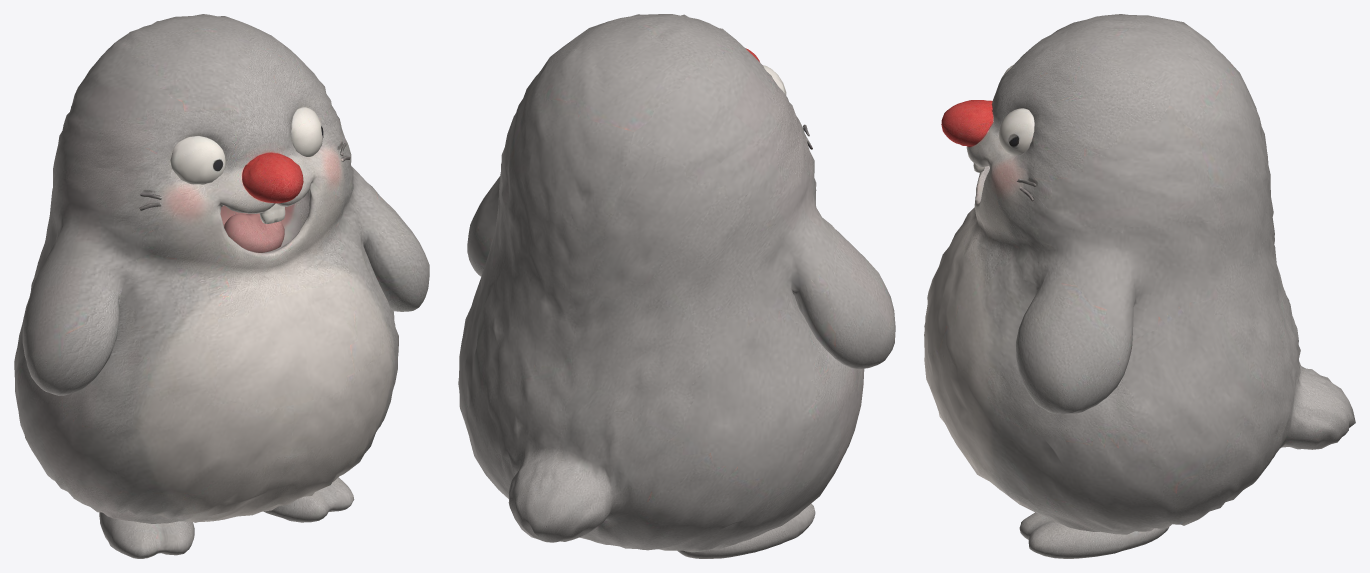
File: monster_seal.glb
3 views of the same model, side by side, from view 1: azimuth 30°, elevation 25°; view 2: azimuth 150°, elevation 25°; view 3: azimuth 270°, elevation 25° (orthographic). The views are drawn at different scales.
Bounding box in the file's own units: 0.8218 × 0.9502 × 0.7778.
1 material, 1 textured.
